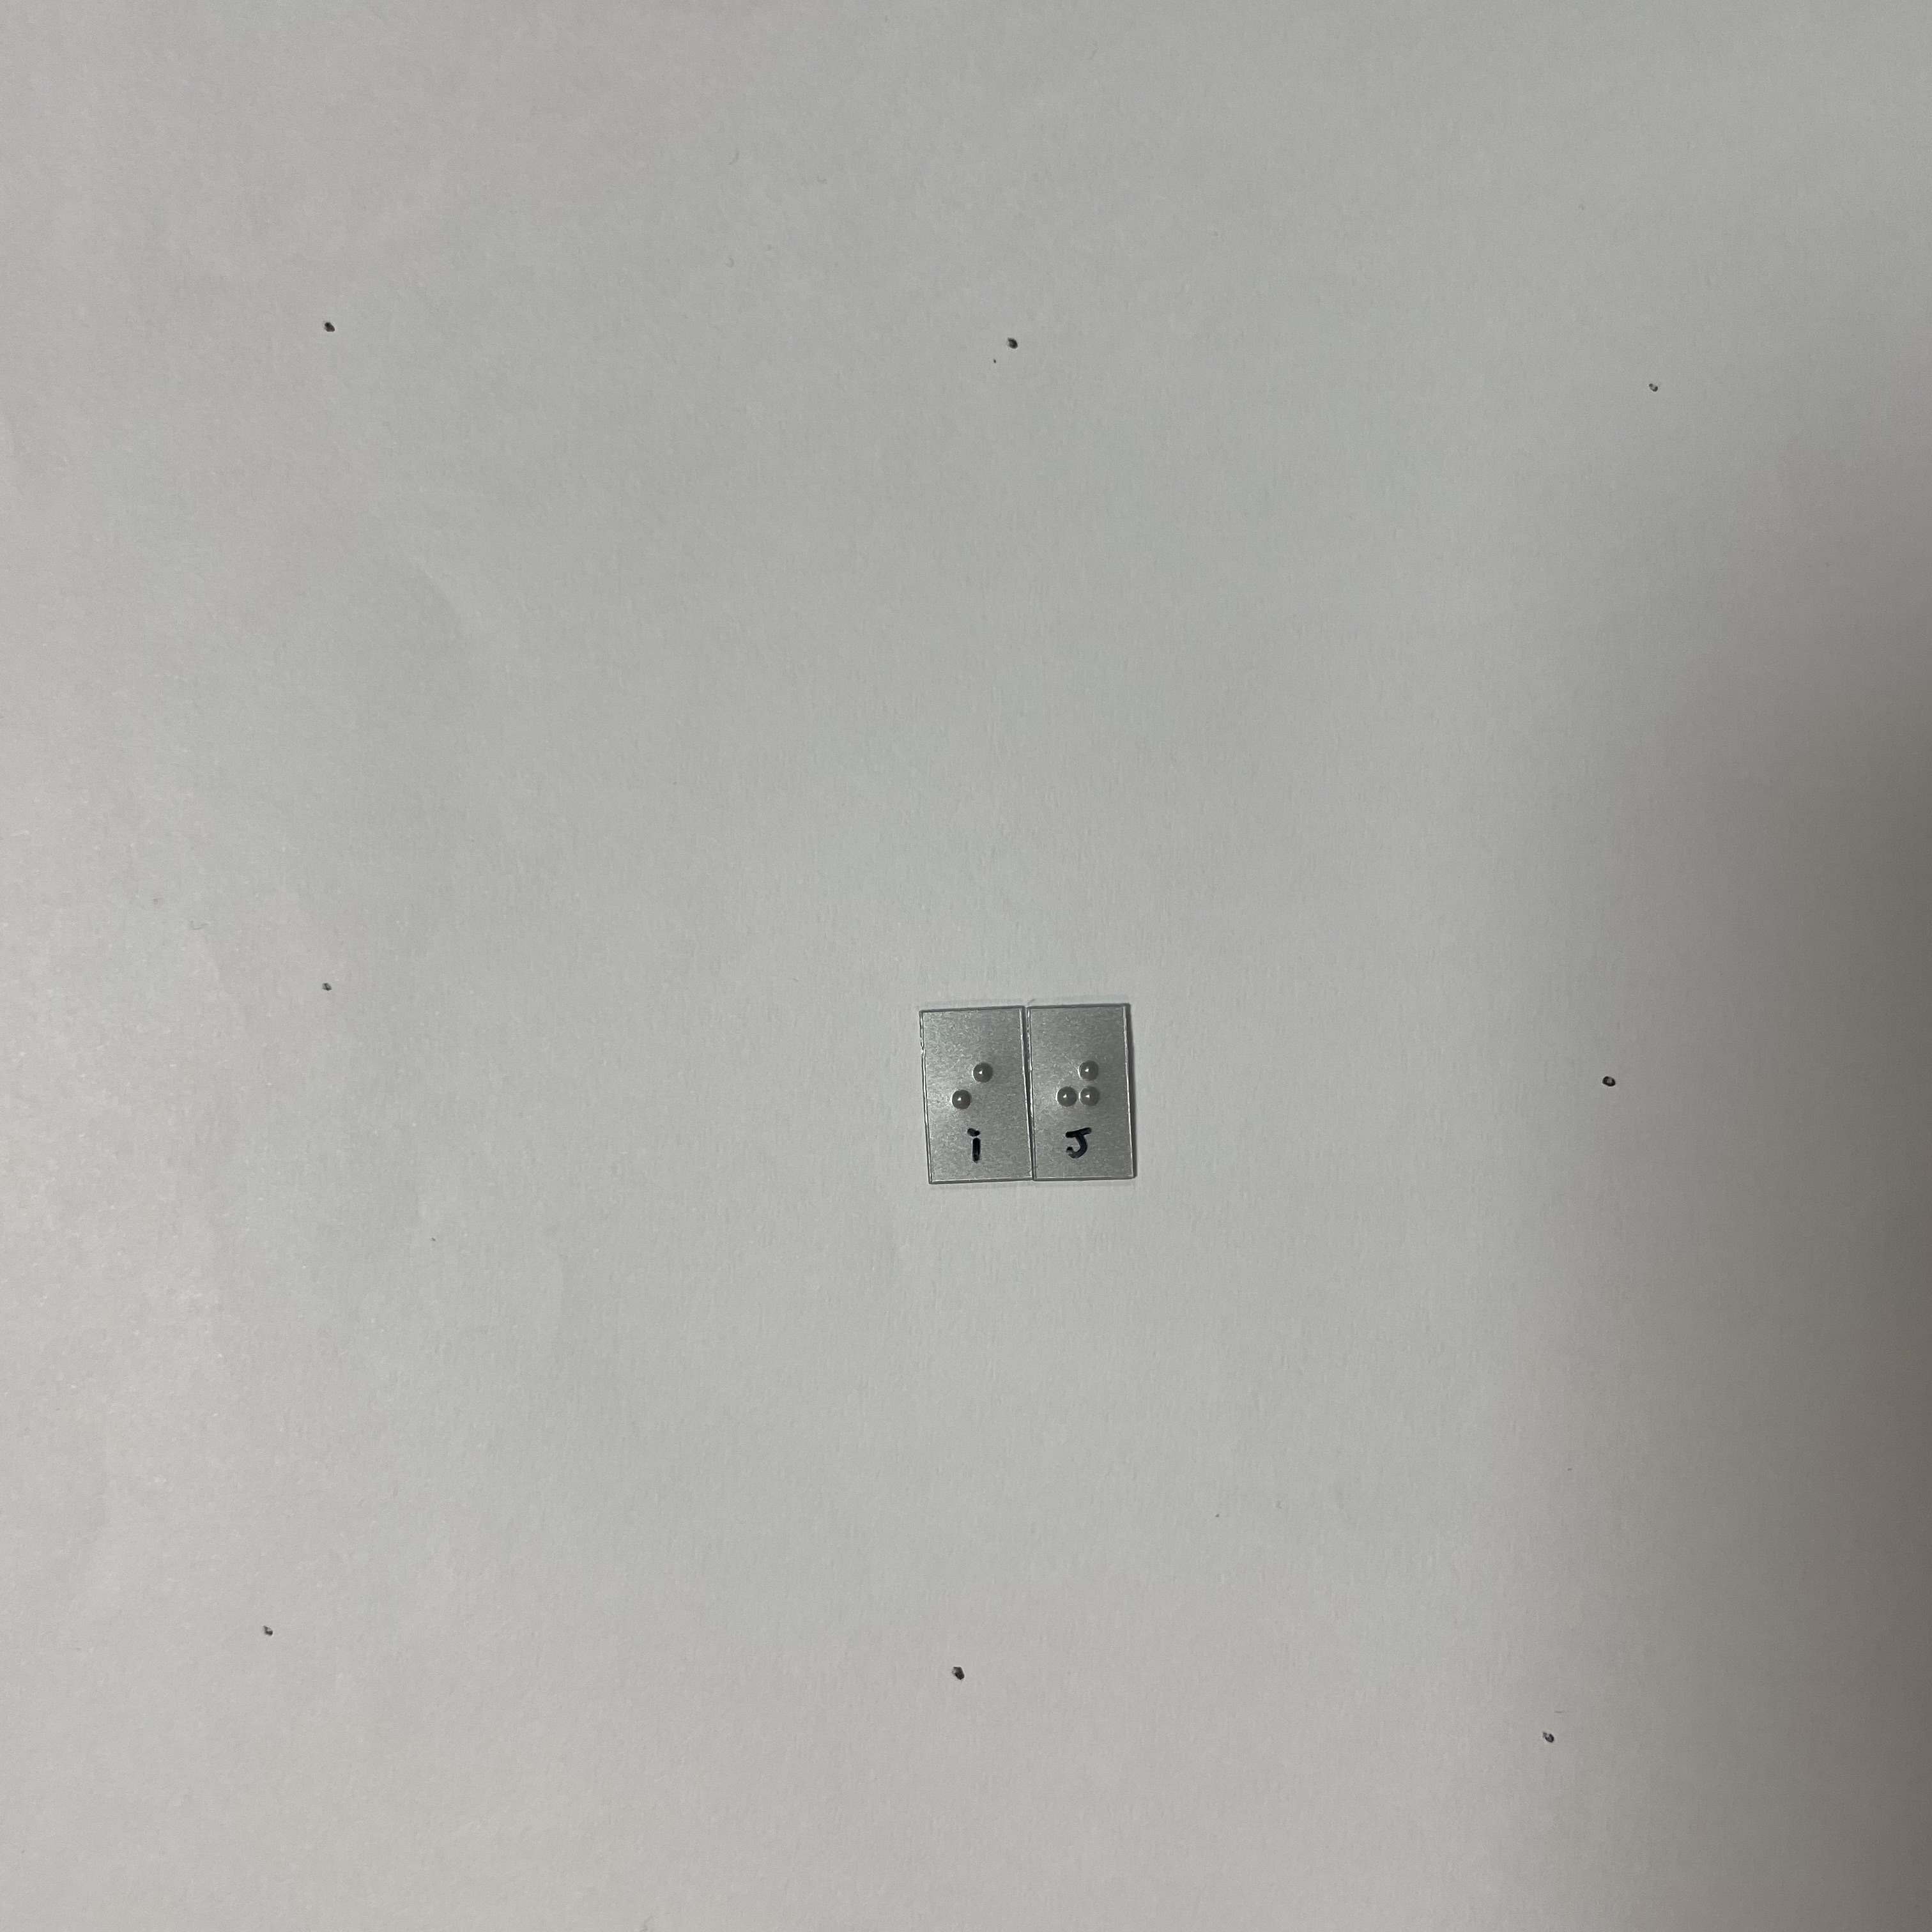i: (937, 1055, 1004, 1146)
j: (1046, 1051, 1108, 1146)
